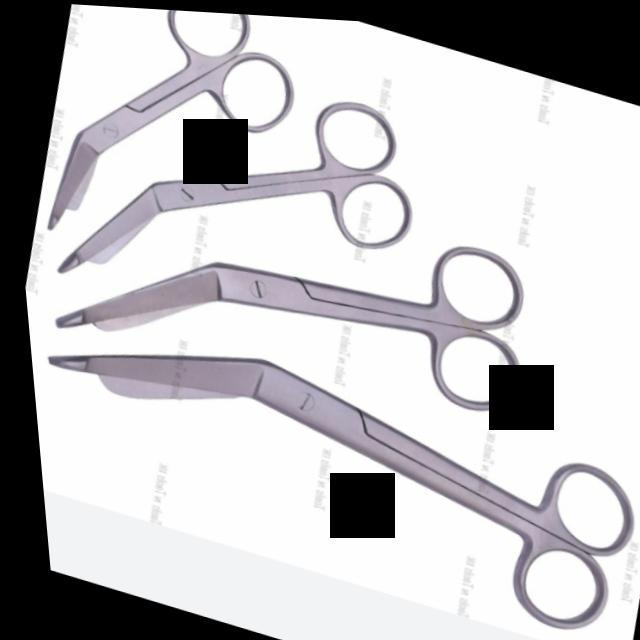Bandage Sciccors: (20, 287, 640, 640), (18, 118, 560, 498), (19, 15, 448, 415), (17, 1, 329, 304)
